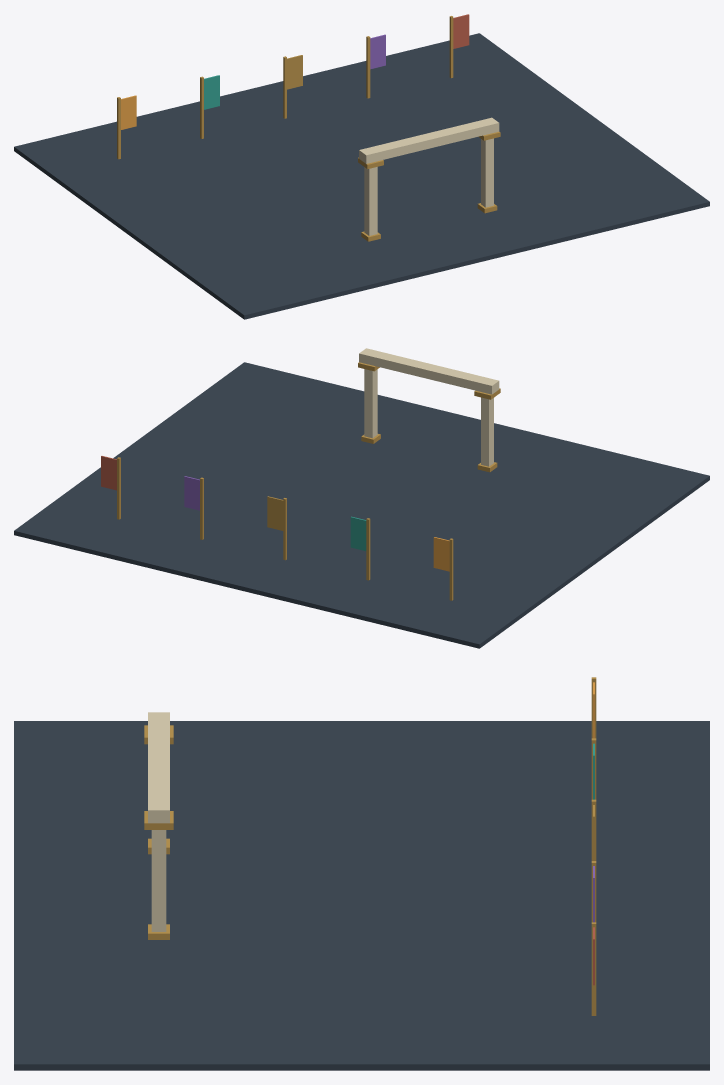
Rendered from alliance_gate.glb.
3 renders of one model, top to bottom at view 1: azimuth 30°, elevation 25°; view 2: azimuth 150°, elevation 25°; view 3: azimuth 270°, elevation 25°, orthographic. The views are drawn at different scales.
Visible parts, largest first — view 1: alliance_gate; view 2: alliance_gate; view 3: alliance_gate.
Part boxes in pixels (x1=…): alliance_gate: x1=14, y1=14, x2=709, y2=319; alliance_gate: x1=14, y1=348, x2=709, y2=648; alliance_gate: x1=14, y1=677, x2=709, y2=1070.
Bounding box in the file's own units: 112 × 21 × 96.
